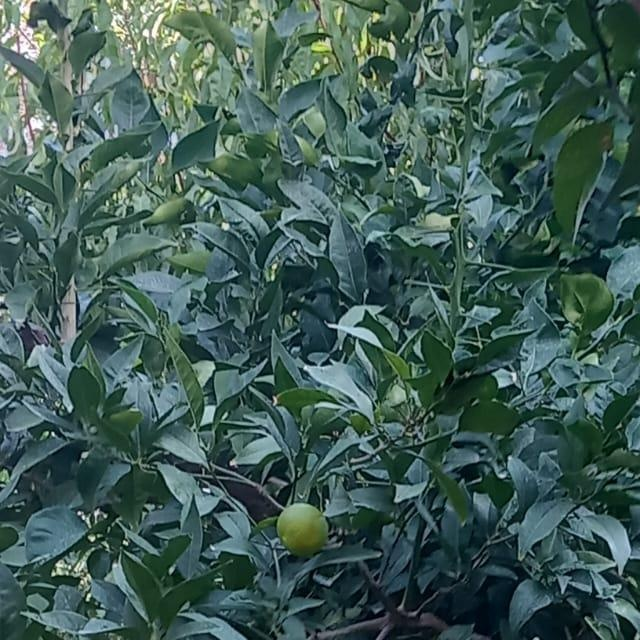orange: (269, 495, 333, 561), (630, 617, 640, 640)
